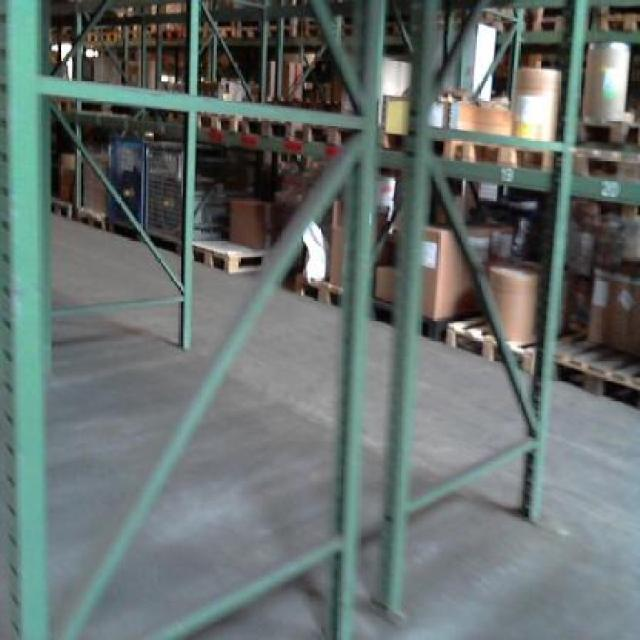pallet: (557, 338, 640, 417), (176, 232, 261, 278), (449, 314, 525, 364), (69, 201, 110, 236)
